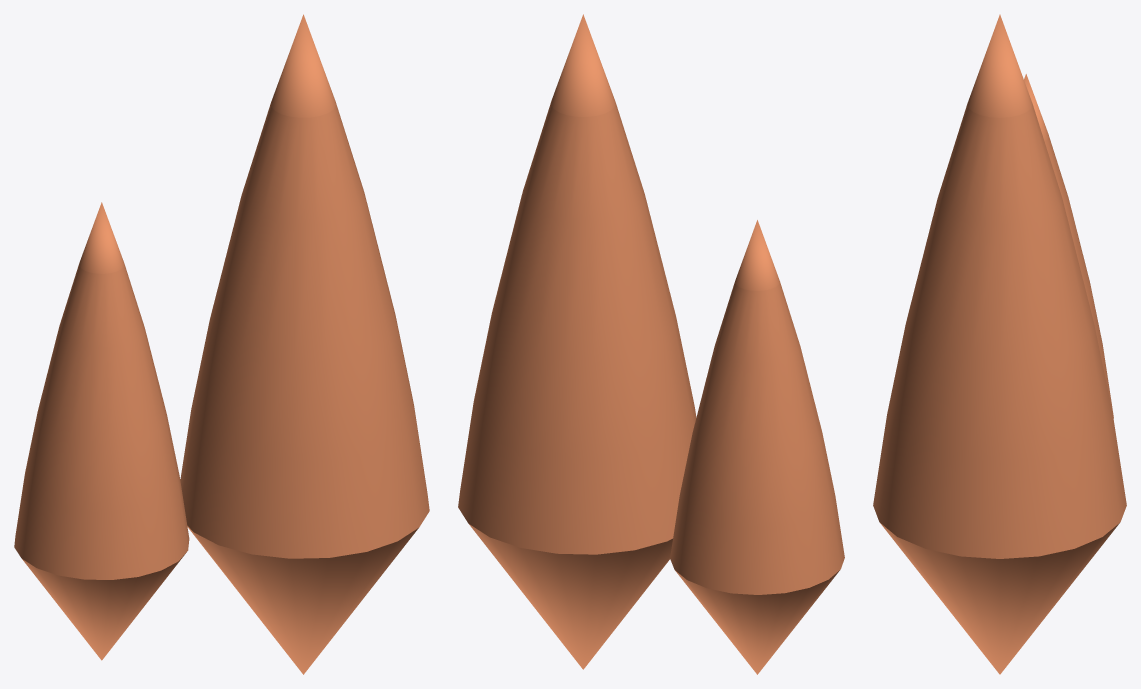
Rendered from StalagGrey.fbx.
3 renders of one model, left to right at view 1: azimuth 30°, elevation 25°; view 2: azimuth 150°, elevation 25°; view 3: azimuth 270°, elevation 25°, orthographic.
Parts seen in each view (by area): view 1: pCylinder3; view 2: pCylinder3; view 3: pCylinder3.
Part boxes in pixels (box(x1,y1,x2,y2)): pCylinder3: box(14, 14, 429, 674); pCylinder3: box(458, 14, 844, 674); pCylinder3: box(873, 14, 1126, 674).
Bounding box in the file's own units: 2.06 × 3.48 × 1.21.
